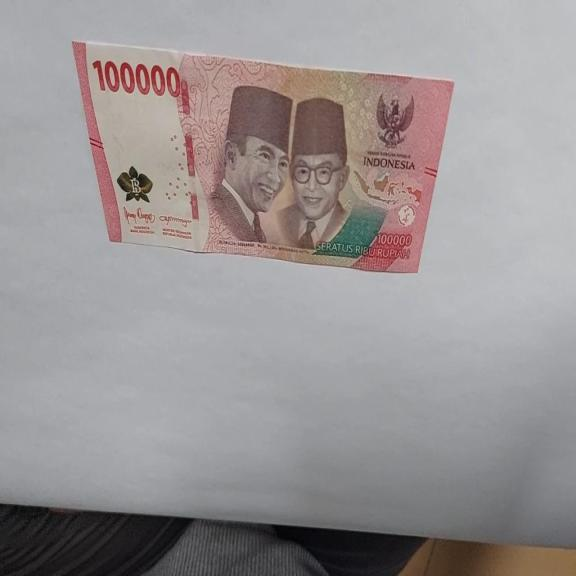Kertas: (71, 37, 455, 274), (91, 56, 182, 99)
